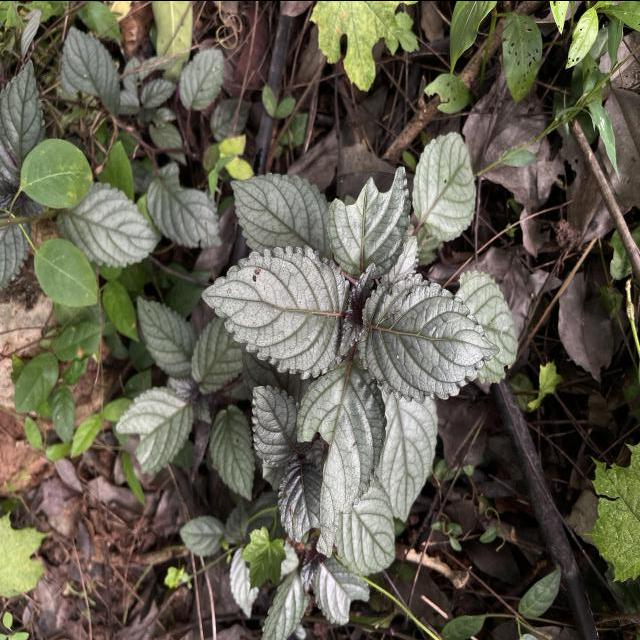Hemigraphis colorata: (199, 242, 354, 382), (356, 268, 502, 406), (295, 353, 388, 560), (326, 165, 412, 282), (230, 170, 332, 264), (411, 130, 478, 242), (250, 383, 309, 468), (207, 402, 257, 502), (276, 456, 324, 544)
